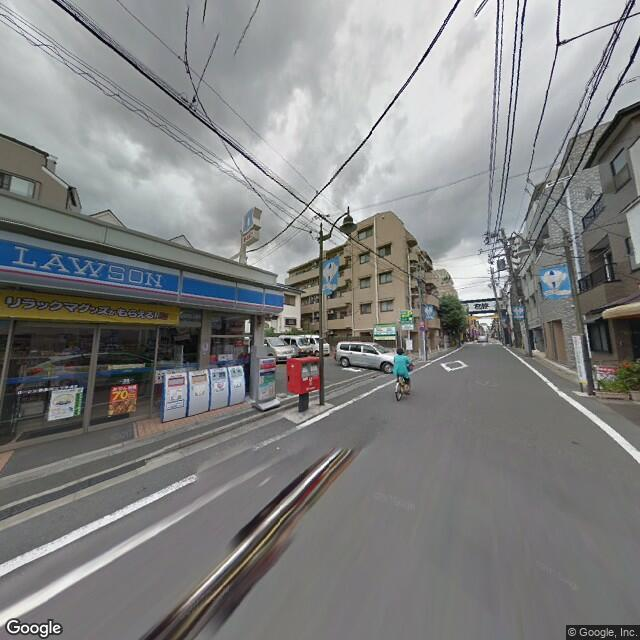lawson: (1, 227, 285, 315), (240, 205, 258, 234)
